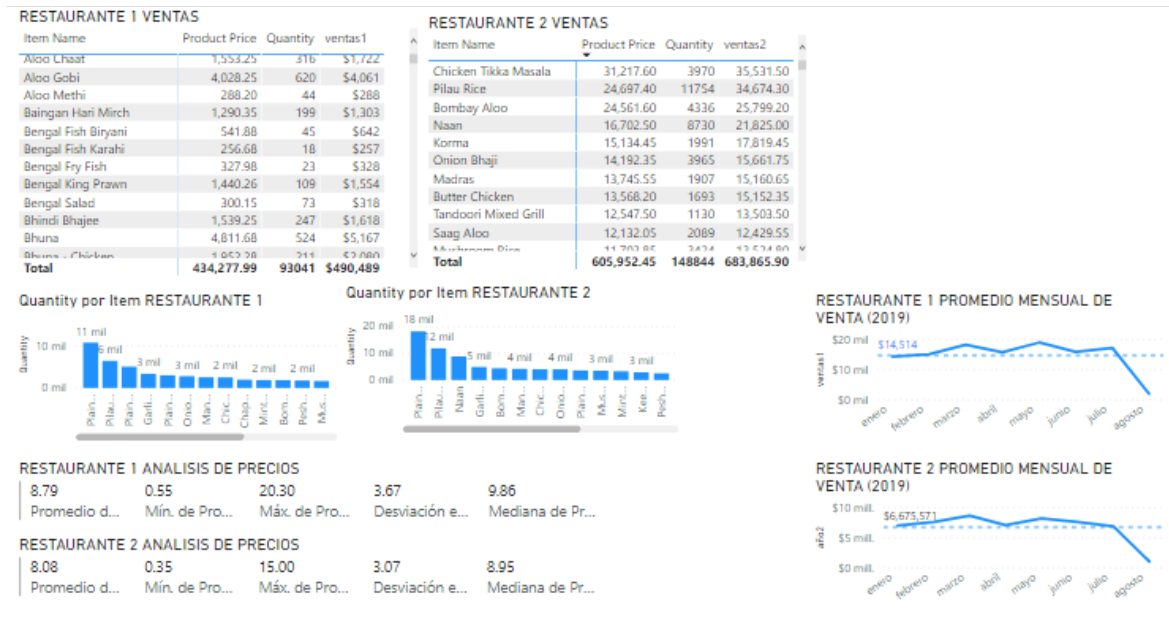

Layout of this report page (visuals, bound fields, positions):
{"tool":"powerbi","page":{"name":"Página 1","canvas":[1280,720],"ordinal":0},"visuals":[{"type":"pivotTable","title":"RESTAURANTE 1 VENTAS","fields":{"Rows":["restaurant-1-orders.Item Name"],"Values":["Sum(restaurant-1-orders.Product Price)","Sum(restaurant-1-orders.Quantity)","restaurant-1-orders.ventas1"]},"box":[10.1,0,434.3,291.5],"z":0},{"type":"pivotTable","title":"RESTAURANTE 2 VENTAS","fields":{"Rows":["restaurant-2-orders.Item Name"],"Values":["Sum(restaurant-2-orders.Product Price)","Sum(restaurant-2-orders.Quantity)","restaurant-2-orders.ventas2"]},"box":[445.1,6.7,411.5,277.2],"z":1000},{"type":"clusteredColumnChart","title":"Quantity por Item RESTAURANTE 1","fields":{"Category":["restaurant-1-orders.Item Name"],"Y":["Sum(restaurant-1-orders.Quantity)"]},"box":[10.1,300.7,347.7,164.6],"z":2000},{"type":"clusteredColumnChart","title":"Quantity por Item RESTAURANTE 2","fields":{"Category":["restaurant-2-orders.Item Name"],"Y":["Sum(restaurant-2-orders.Quantity)"]},"box":[357.8,292.3,362.8,164.6],"z":3000},{"type":"multiRowCard","title":"RESTAURANTE 1 ANALISIS DE PRECIOS","fields":{"Values":["Avg(restaurant-1-products-price.Product Price)","Min(restaurant-1-products-price.Product Price)","Max(restaurant-1-products-price.Product Price)","StandardDeviation(restaurant-1-products-price.Product Price)","Median(restaurant-1-products-price.Product Price)"]},"box":[10.1,478.7,629.9,122.6],"z":4000},{"type":"multiRowCard","title":"RESTAURANTE 2 ANALISIS DE PRECIOS","fields":{"Values":["Avg(restaurant-2-products-price.Product Price)","Min(restaurant-2-products-price.Product Price)","Max(restaurant-2-products-price.Product Price)","StandardDeviation(restaurant-2-products-price.Product Price)","Median(restaurant-2-products-price.Product Price)"]},"box":[10.1,559.4,628.2,82.3],"z":5000},{"type":"lineChart","title":"RESTAURANTE 1 PROMEDIO MENSUAL DE VENTA (2019)","fields":{"Category":["restaurant-1-orders.Order Date.Variación.Jerarquía de fechas.Año","restaurant-1-orders.Order Date.Variación.Jerarquía de fechas.Mes"],"Y":["restaurant-1-orders.ventas1"]},"box":[856.7,300.7,379.6,164.6],"z":5002},{"type":"lineChart","title":"RESTAURANTE 2 PROMEDIO MENSUAL DE VENTA (2019)","fields":{"Category":["restaurant-2-orders.Order Date.Variación.Jerarquía de fechas.Año","restaurant-2-orders.Order Date.Variación.Jerarquía de fechas.Mes"],"Y":["Sum(restaurant-2-orders.año2)"]},"box":[856.7,478.7,379.6,164.6],"z":5003}]}

Visuals, with their boxes on the page's 1280x720 design canvas (x1, y1, x2, y2). These are canvas units, not pixel positions in the 1169x628 screenshot, which may show the page scaled, cropped or inside an application window:
"RESTAURANTE 1 VENTAS" pivotTable: 10/0/444/292
"RESTAURANTE 2 VENTAS" pivotTable: 445/7/857/284
"Quantity por Item RESTAURANTE 1" clusteredColumnChart: 10/301/358/465
"Quantity por Item RESTAURANTE 2" clusteredColumnChart: 358/292/721/457
"RESTAURANTE 1 ANALISIS DE PRECIOS" multiRowCard: 10/479/640/601
"RESTAURANTE 2 ANALISIS DE PRECIOS" multiRowCard: 10/559/638/642
"RESTAURANTE 1 PROMEDIO MENSUAL DE VENTA (2019)" lineChart: 857/301/1236/465
"RESTAURANTE 2 PROMEDIO MENSUAL DE VENTA (2019)" lineChart: 857/479/1236/643
